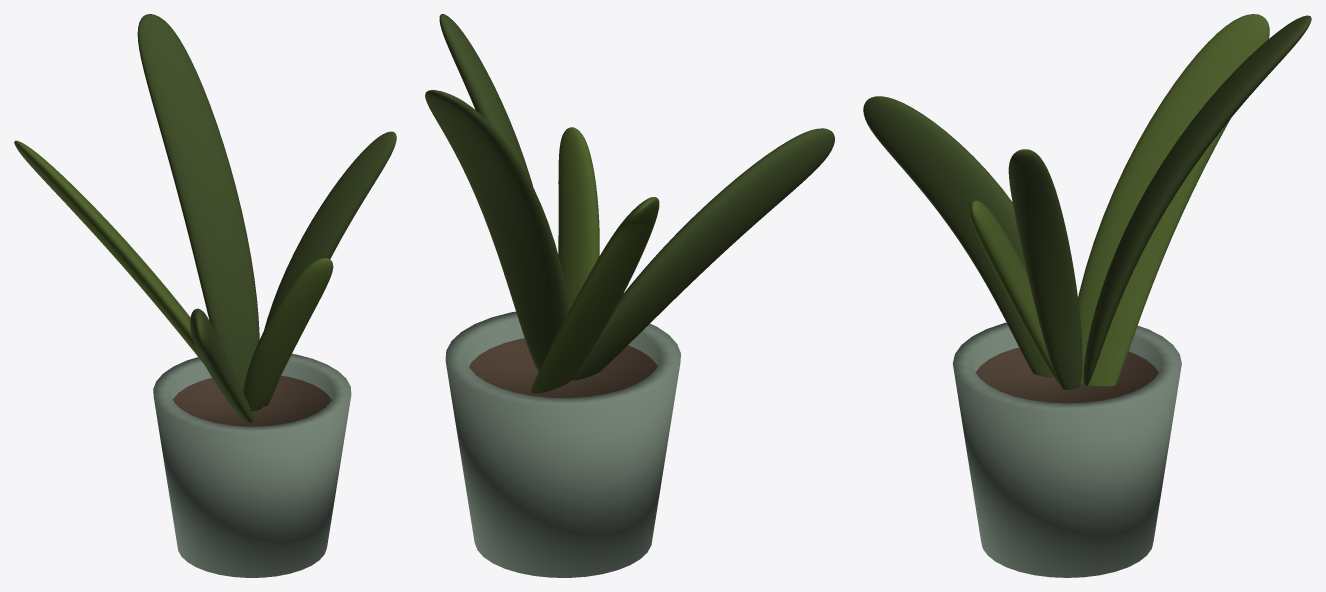
The model's file is plant_floor.fbx.
The picture shows the model from 3 angles, left to right: view 1: azimuth 30°, elevation 25°; view 2: azimuth 150°, elevation 25°; view 3: azimuth 270°, elevation 25°; orthographic projection. The views are drawn at different scales.
Parts seen in each view (by area): view 1: ruukku, lehti1, lehti1.001, lehti1.003, lehti1.004, lehti1.002; view 2: ruukku, lehti1, lehti1.002, lehti1.004, lehti1.003, lehti1.001; view 3: ruukku, lehti1.004, lehti1.002, lehti1, lehti1.001, lehti1.003.
Part boxes in pixels (box(x1,y1,x2,y2)): ruukku: box(153, 353, 351, 577); lehti1: box(137, 14, 259, 390); lehti1.001: box(264, 131, 396, 406); lehti1.003: box(242, 258, 333, 411); lehti1.004: box(14, 140, 203, 363); lehti1.002: box(190, 308, 253, 422); ruukku: box(445, 311, 680, 577); lehti1: box(425, 90, 568, 371); lehti1.002: box(572, 128, 834, 380); lehti1.004: box(530, 197, 659, 393); lehti1.003: box(558, 127, 599, 311); lehti1.001: box(439, 14, 532, 186); ruukku: box(952, 322, 1181, 577); lehti1.004: box(1078, 14, 1269, 386); lehti1.002: box(863, 96, 1053, 377); lehti1: box(1083, 15, 1311, 385); lehti1.001: box(1008, 149, 1082, 389); lehti1.003: box(970, 200, 1059, 384).
Bounding box in the file's own units: 57.23 × 89.64 × 69.44.
